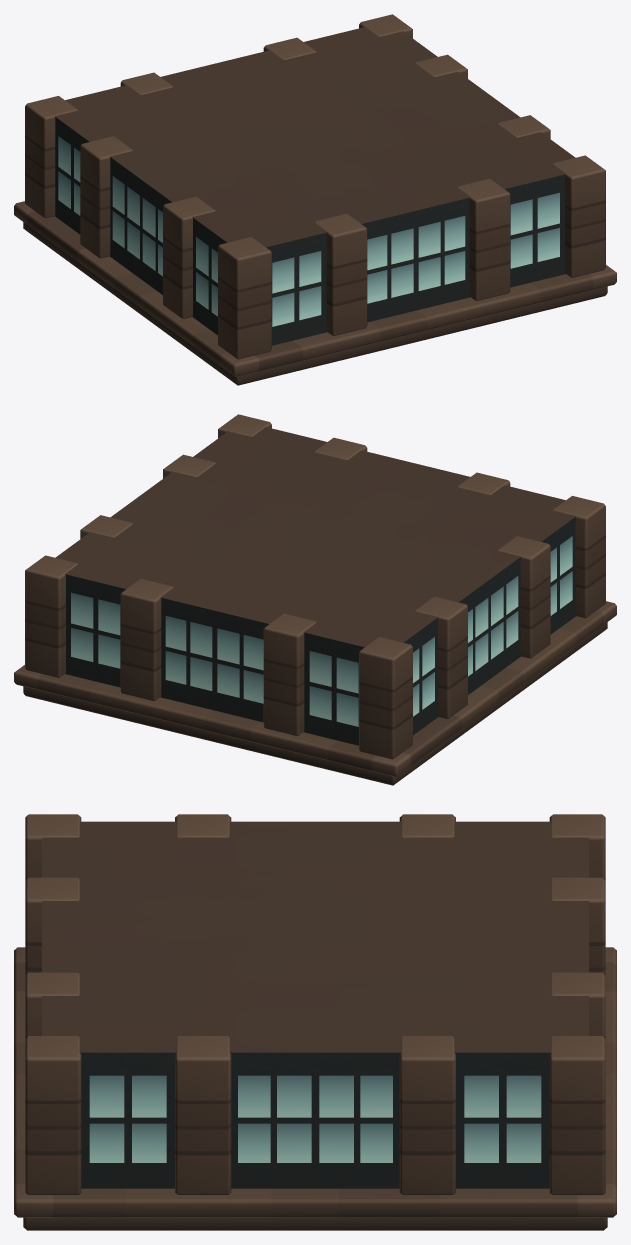
File: office_building_type1_single_floor2_brown.fbx
The picture shows the model from 3 angles, top to bottom: view 1: azimuth 30°, elevation 25°; view 2: azimuth 150°, elevation 25°; view 3: azimuth 270°, elevation 25°; orthographic projection. The views are drawn at different scales.
Parts seen in each view (by area): view 1: office_building_type1_single_floor2_brown; view 2: office_building_type1_single_floor2_brown; view 3: office_building_type1_single_floor2_brown.
Boxes of the visible parts, <box> form: office_building_type1_single_floor2_brown: <box>14,14,616,385</box>; office_building_type1_single_floor2_brown: <box>14,414,616,785</box>; office_building_type1_single_floor2_brown: <box>14,814,616,1230</box>.
Bounding box in the file's own units: 1610 × 509 × 1610.
